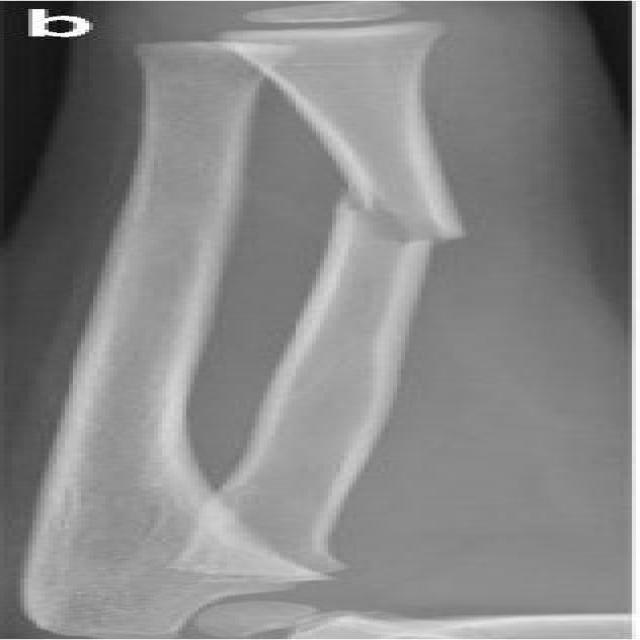fractured: (290, 182, 530, 269)
